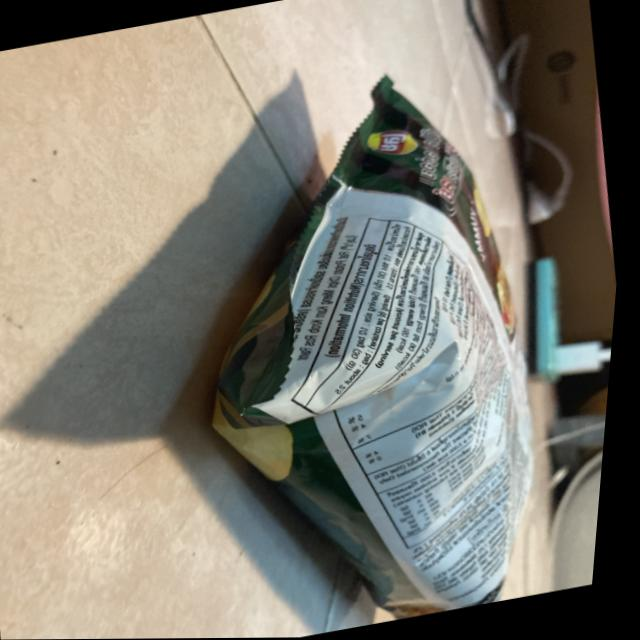Laygreen: (142, 68, 600, 639)
